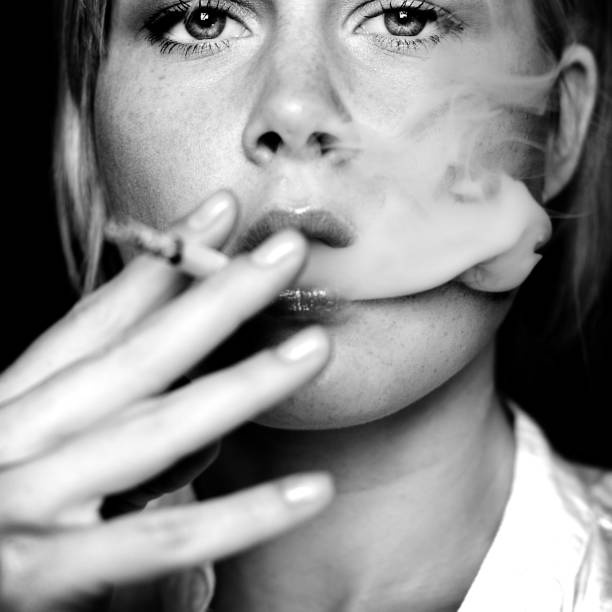sigaretta: (107, 218, 257, 284)
